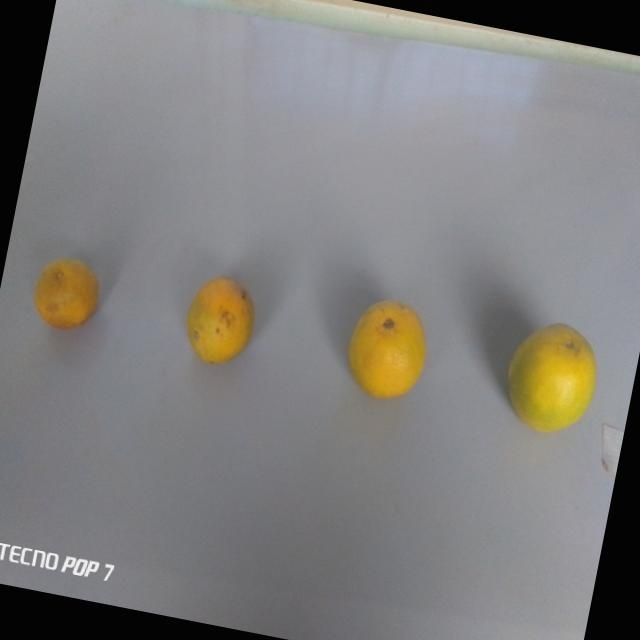agrume: (491, 304, 611, 448), (331, 286, 445, 417), (173, 263, 272, 381), (18, 241, 108, 346)
